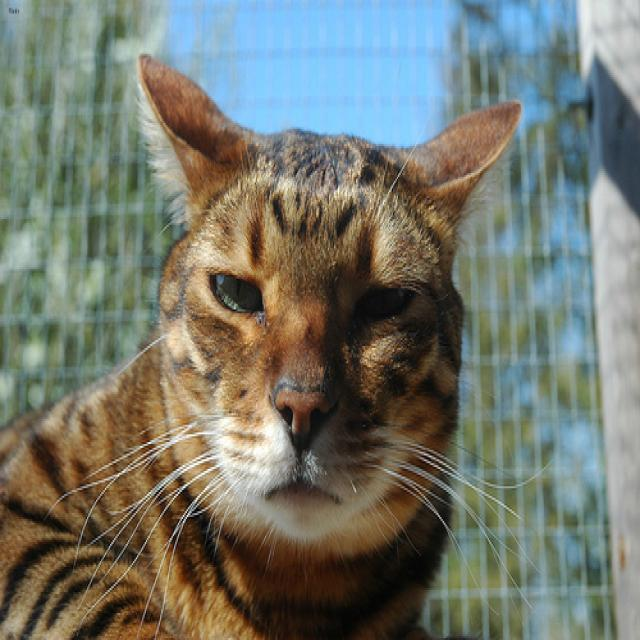Bengal: (132, 47, 527, 540)
